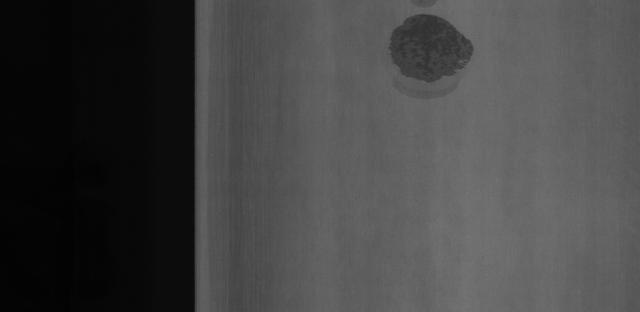oil_spot: (378, 8, 476, 92)
